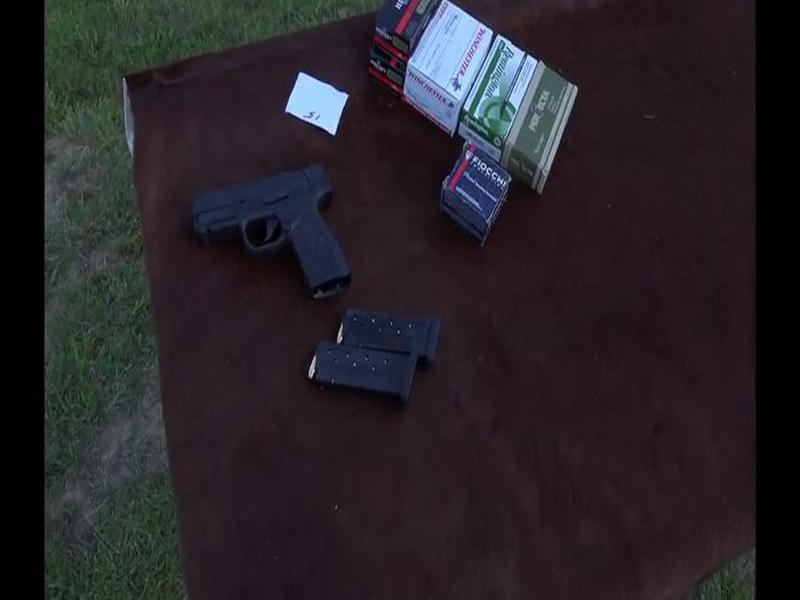Pistola: (168, 152, 361, 302)
